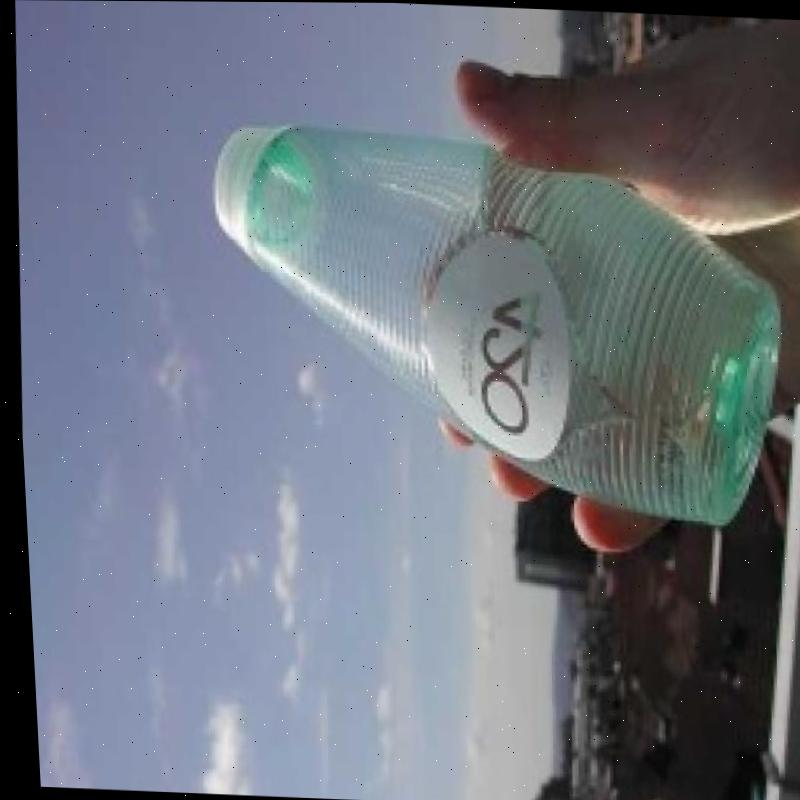botella: (196, 116, 788, 532)
